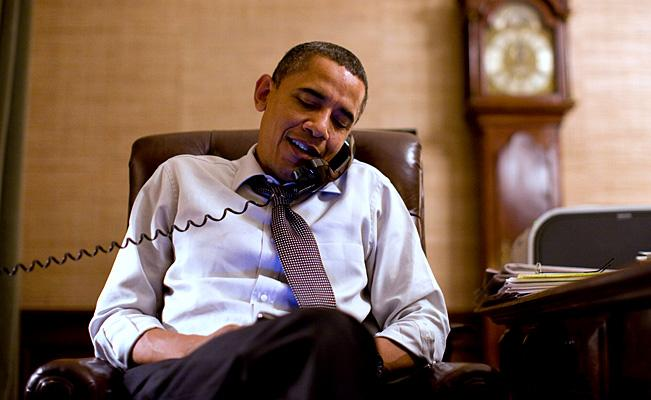person: (84, 39, 454, 399)
